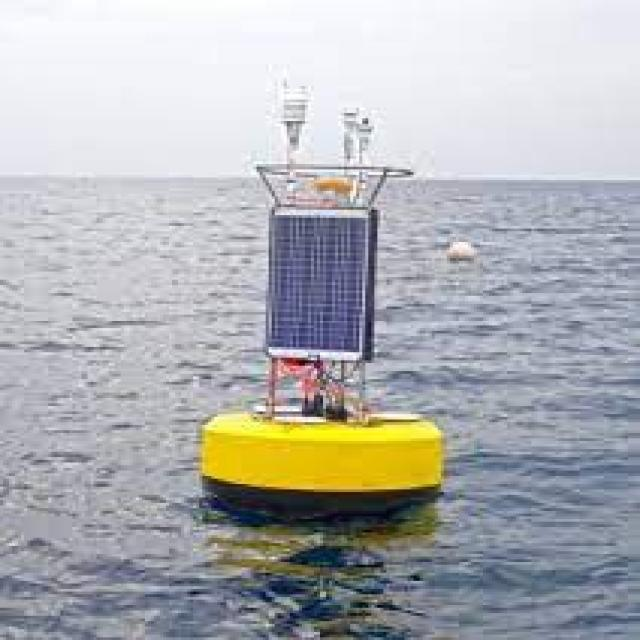buoy: (201, 51, 469, 527)
